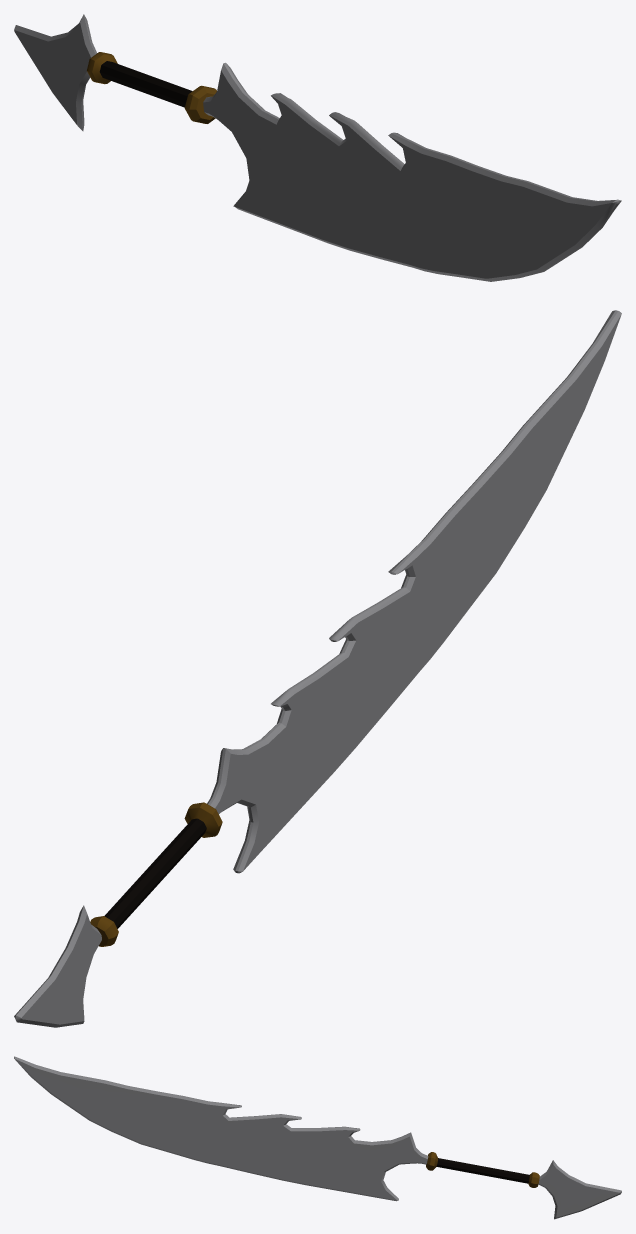
The model's file is ESPADA.fbx.
3 views of the same model, one above another, from view 1: azimuth 30°, elevation 25°; view 2: azimuth 150°, elevation 25°; view 3: azimuth 270°, elevation 25° (orthographic). The views are drawn at different scales.
Visible parts, largest first — view 1: ESPADA; view 2: ESPADA; view 3: ESPADA.
Boxes of the visible parts, <box> form: ESPADA: <box>14,14,621,281</box>; ESPADA: <box>14,310,621,1027</box>; ESPADA: <box>14,1056,621,1219</box>.
Bounding box in the file's own units: 0.0456 × 0.4068 × 1.38.
